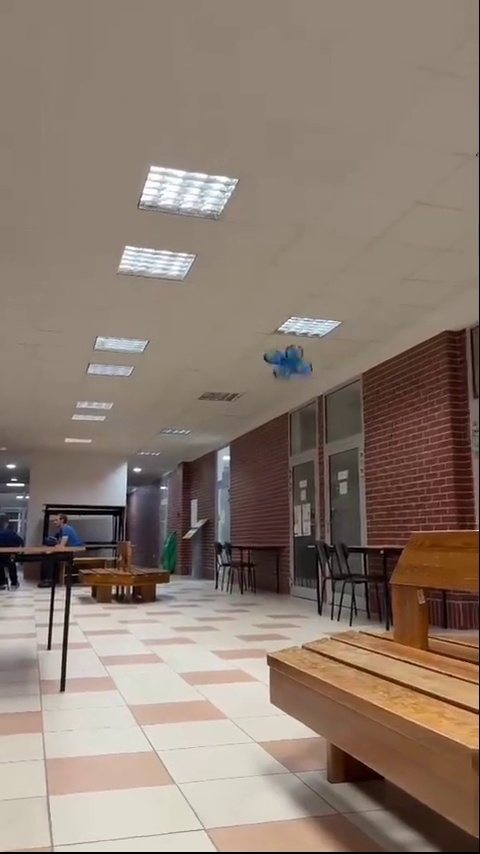drone: (262, 343, 313, 387)
no vest: (39, 506, 86, 569)
